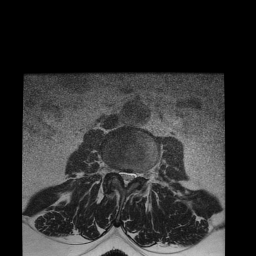CCS_normal: (123, 167, 129, 191)
LFS_normal: (136, 166, 144, 183)
LLS_stenosis: (129, 167, 136, 187)
RFS_stenosis: (111, 161, 117, 181)
RLS_stenosis: (117, 164, 123, 184)
